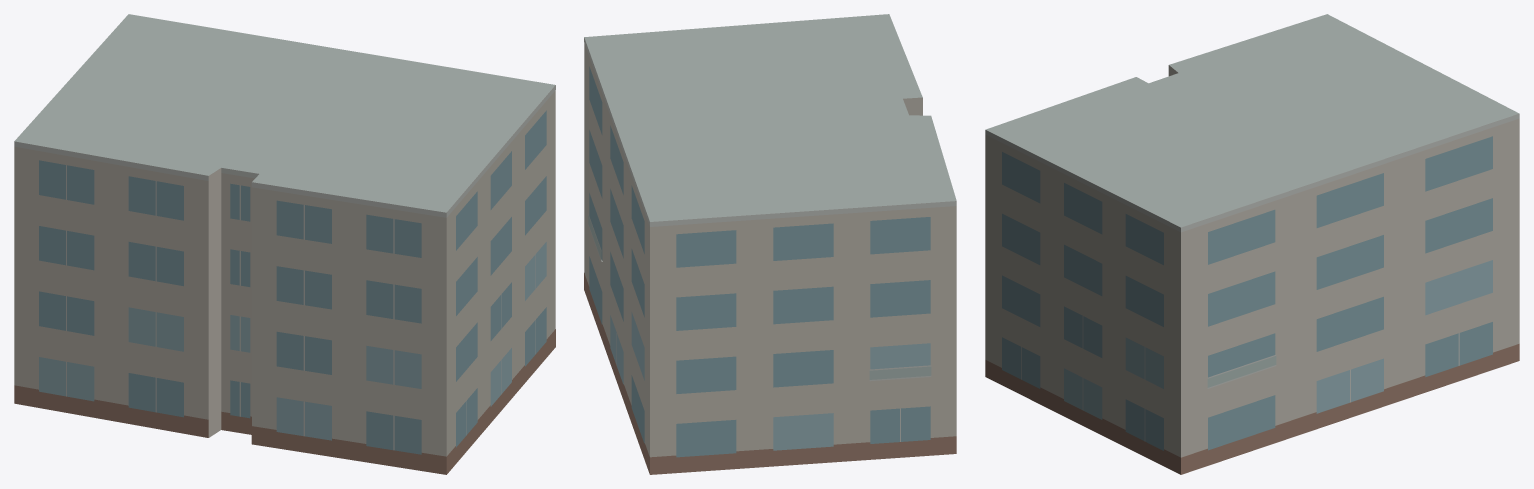
Rendered from survey-upis-32747886.glb.
3 renders of one model, left to right at view 1: azimuth 30°, elevation 25°; view 2: azimuth 150°, elevation 25°; view 3: azimuth 270°, elevation 25°, orthographic. The views are drawn at different scales.
Visible parts, largest first — view 1: survey-upis-32747886.tmp; view 2: survey-upis-32747886.tmp; view 3: survey-upis-32747886.tmp.
Boxes of the visible parts, <box> form: survey-upis-32747886.tmp: <box>14,14,555,474</box>; survey-upis-32747886.tmp: <box>584,14,956,474</box>; survey-upis-32747886.tmp: <box>985,14,1519,474</box>.
Bounding box in the file's own units: 22.78 × 12.3 × 24.08.
